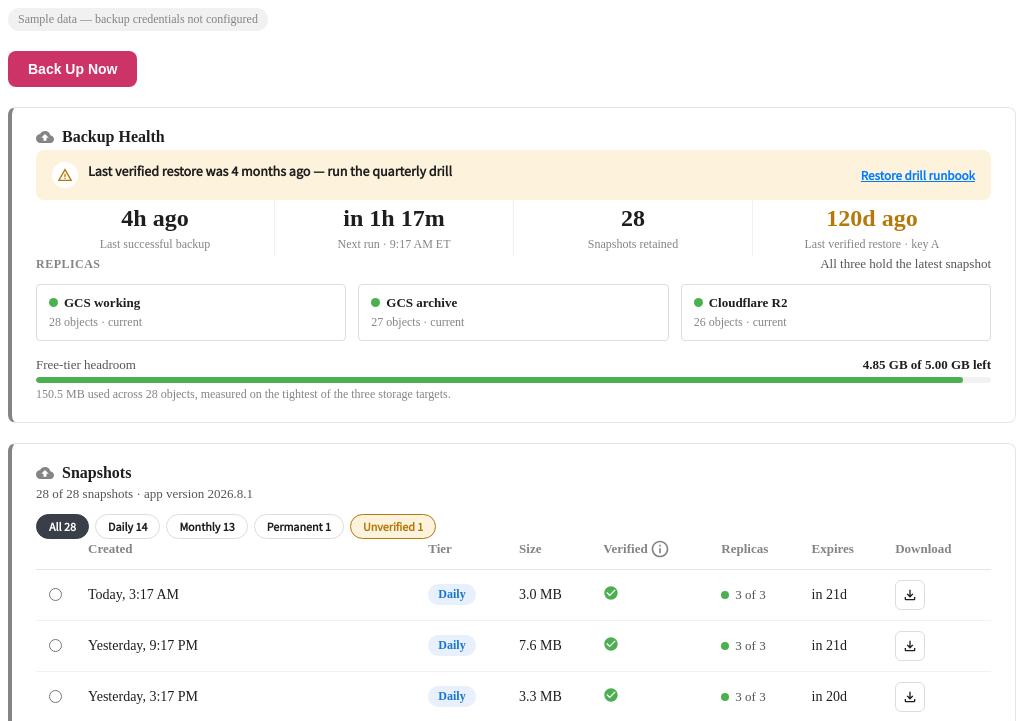
BackupsTab › clicking a selected row again unselects it
The width and height of the screenshot is (1024, 721).
Click the row "Today, 3:17 AM Daily 3.0 MB 3 of 3 in 21d": (514, 595) [36,569,991,620]
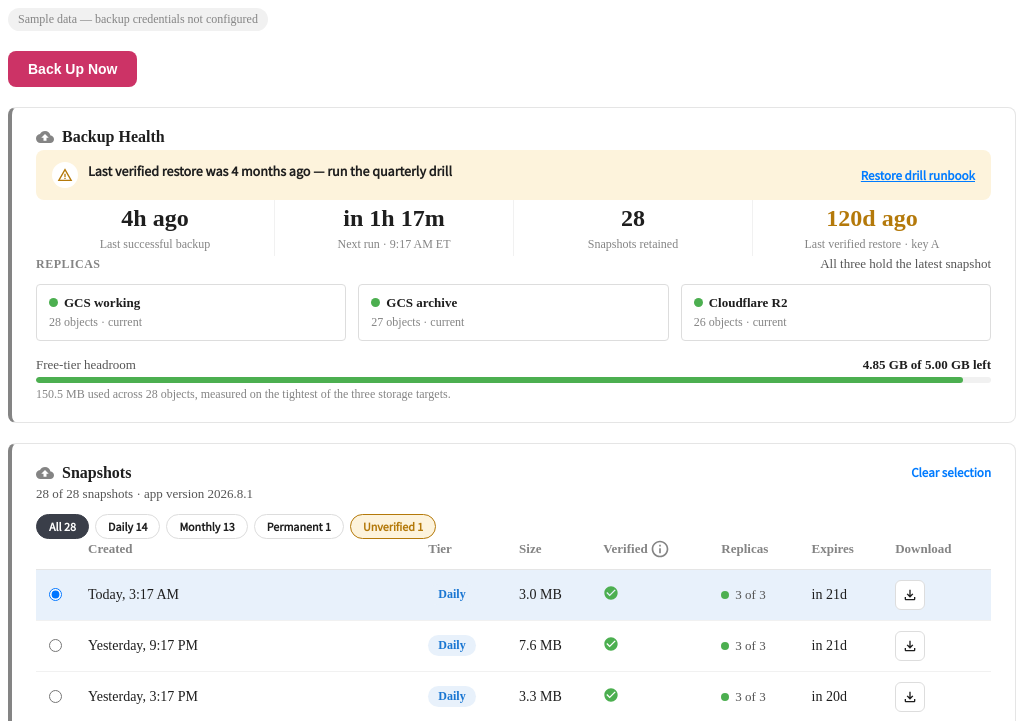
Expected: the text "Select a snapshot above to generate its restore command." is not shown
Click the row "Today, 3:17 AM Daily 3.0 MB 3 of 3 in 21d": (514, 595) [36,569,991,620]
(page scrolled)
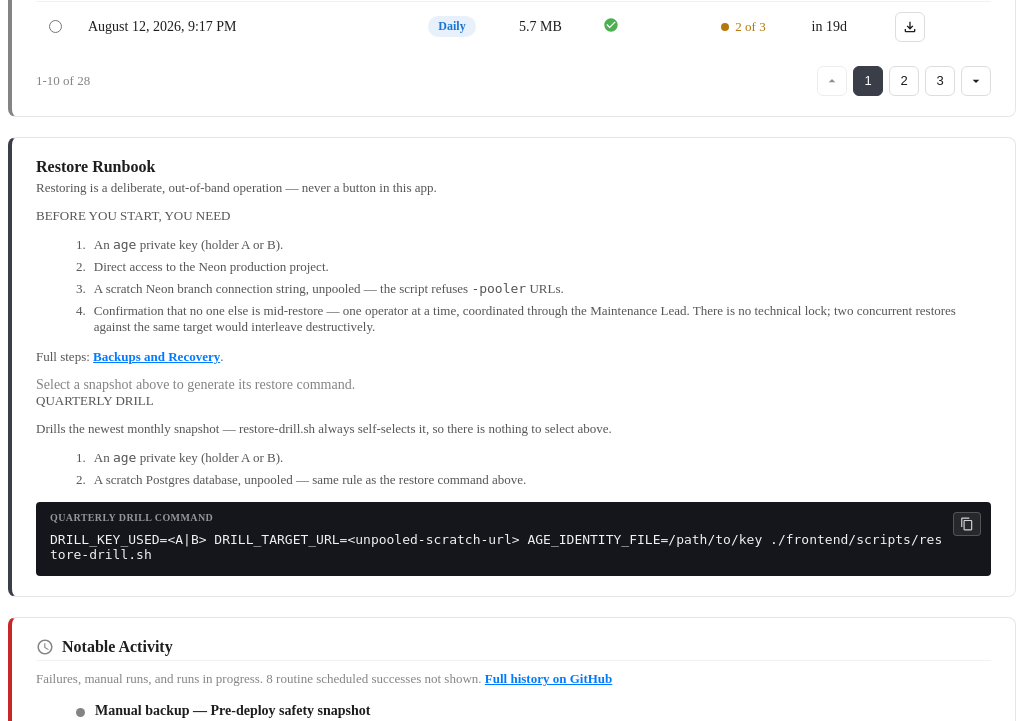
Expected: the text "Select a snapshot above to generate its restore command." is shown, [36,377,355,392]
